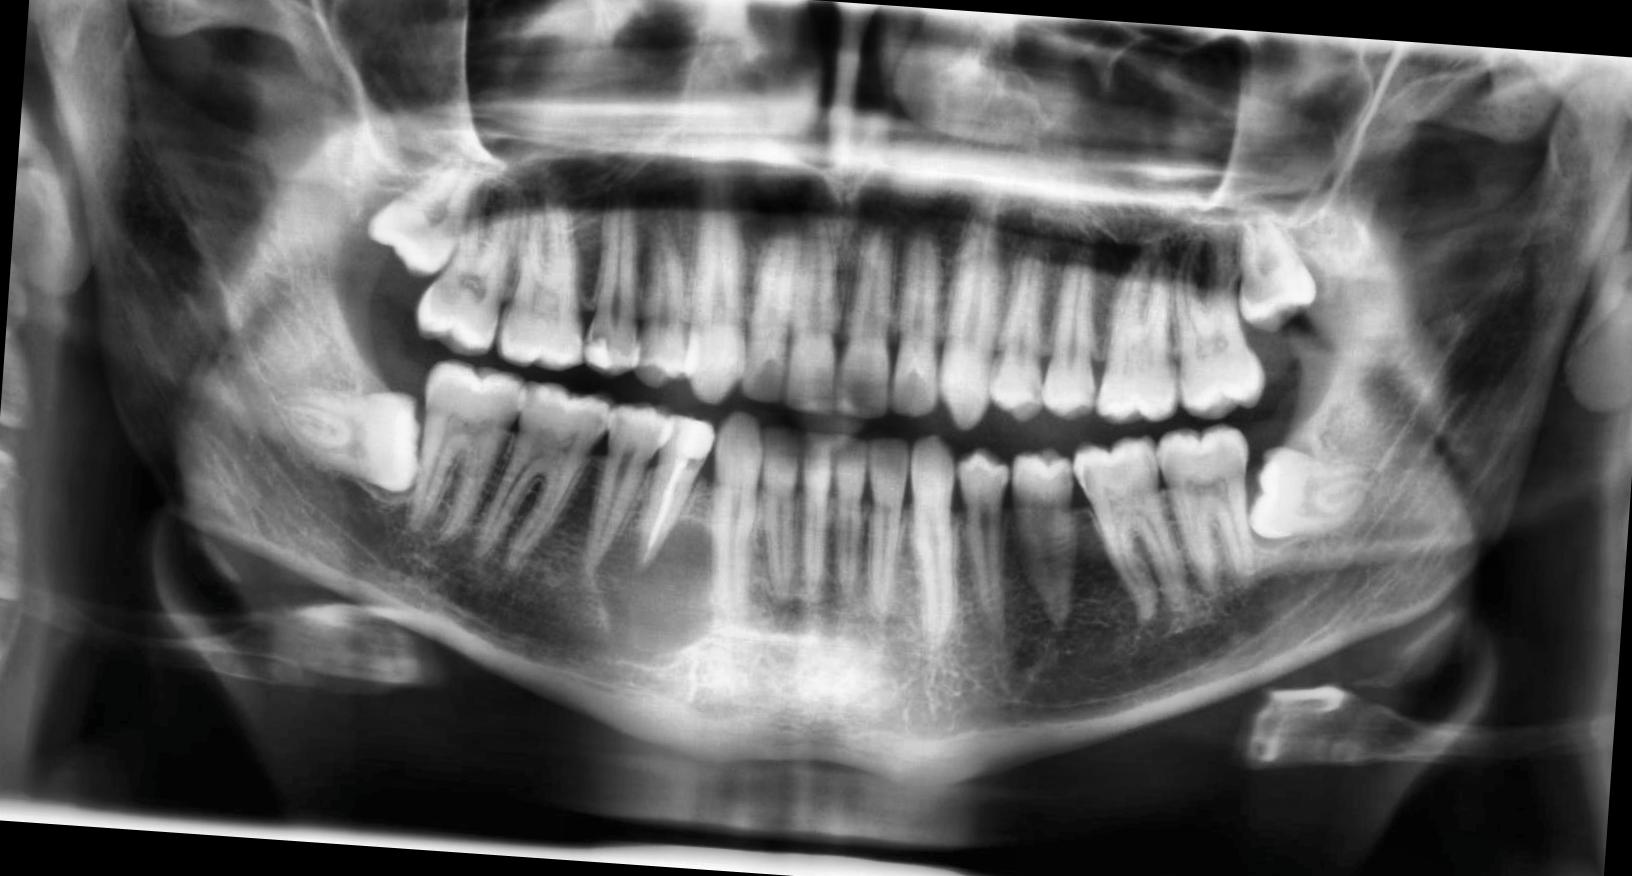radikuler: (586, 510, 723, 676)
